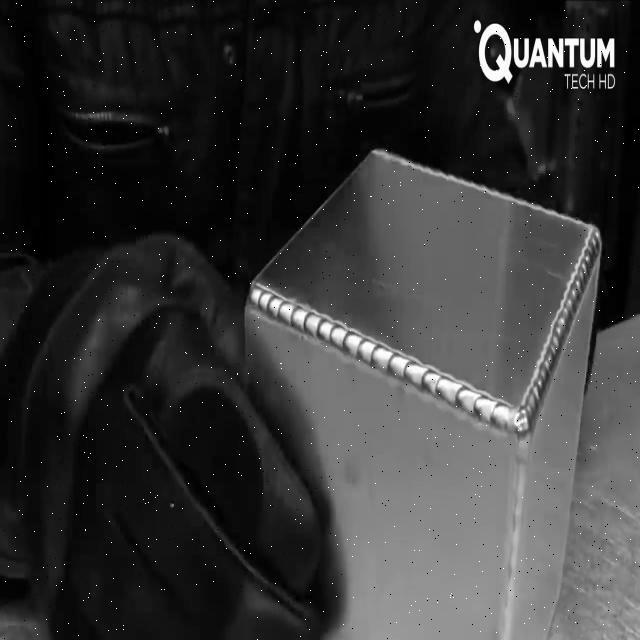Good Welding: (238, 221, 606, 465)
